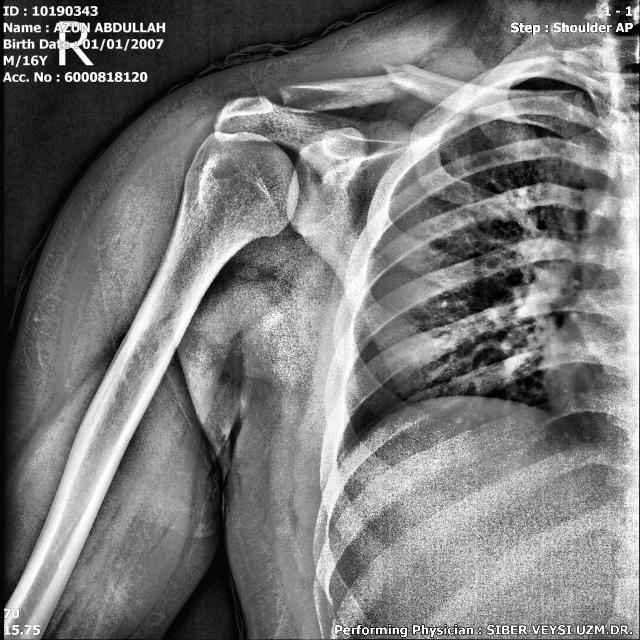Fracture: (353, 54, 444, 110)
